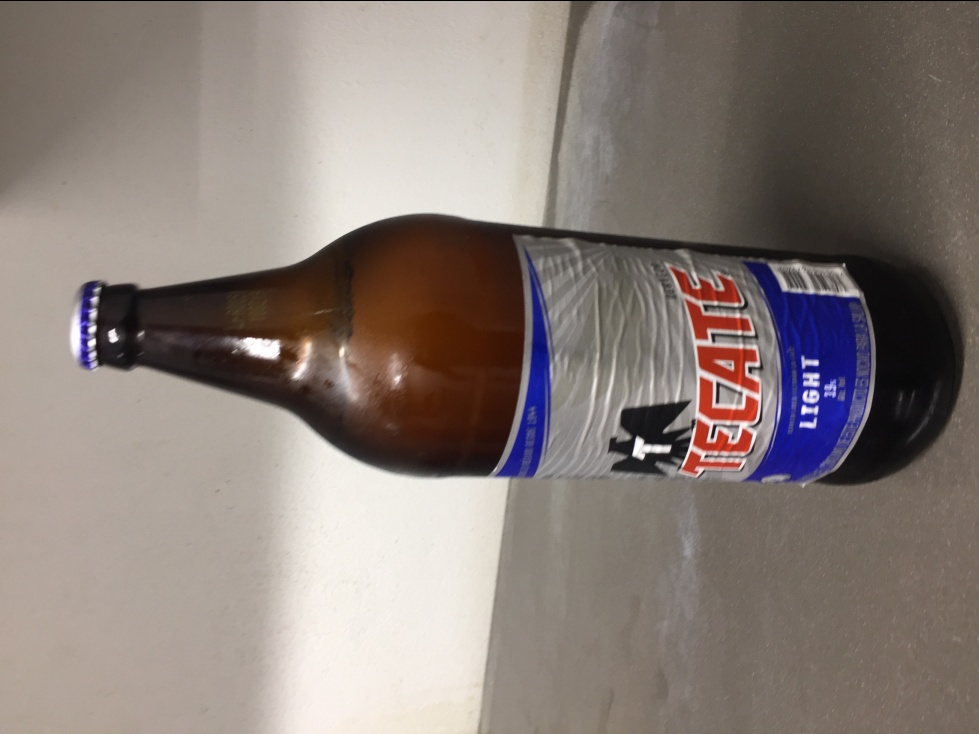tecateC: (72, 216, 961, 496)
